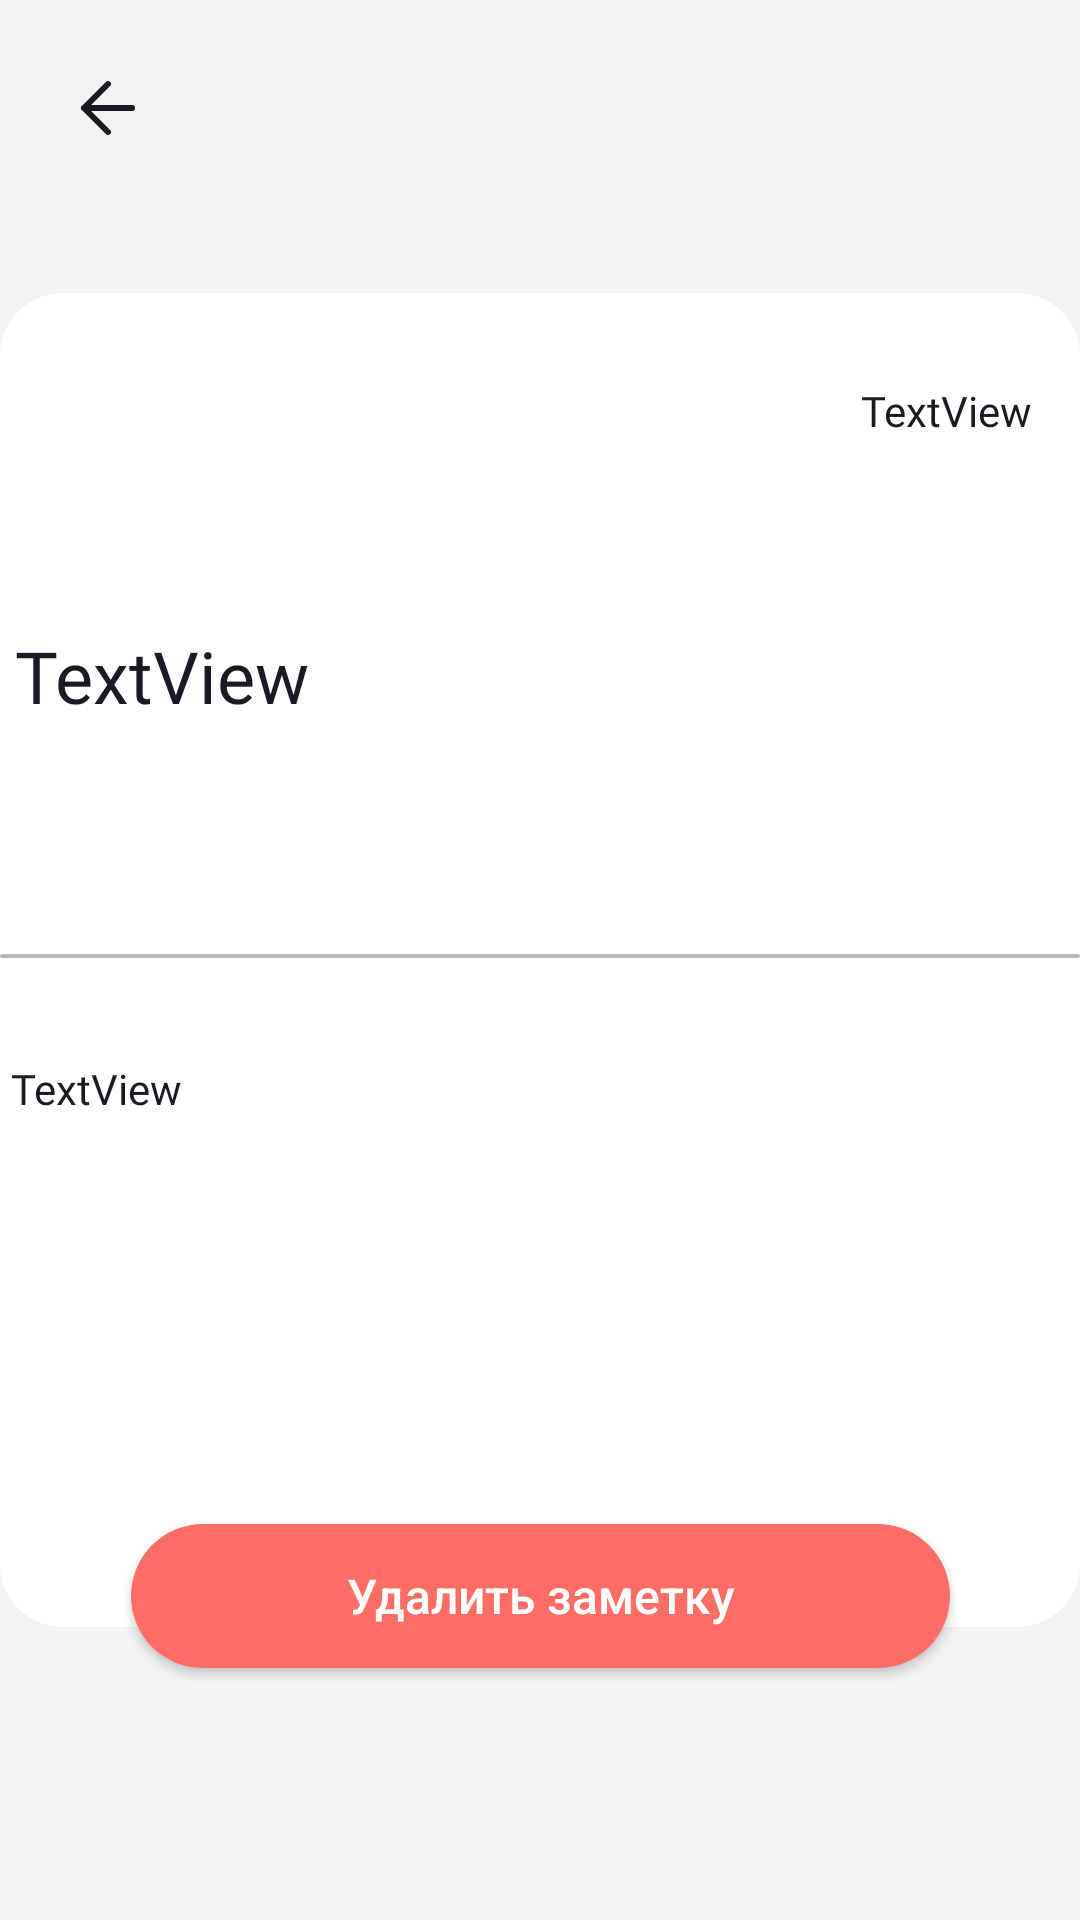

Where icons sit on this 1080 × 1920 app screen, as {"x1": x1, "y1": y1, "x2": x2, "y2": y2}:
back: {"x1": 81, "y1": 81, "x2": 135, "y2": 135}
